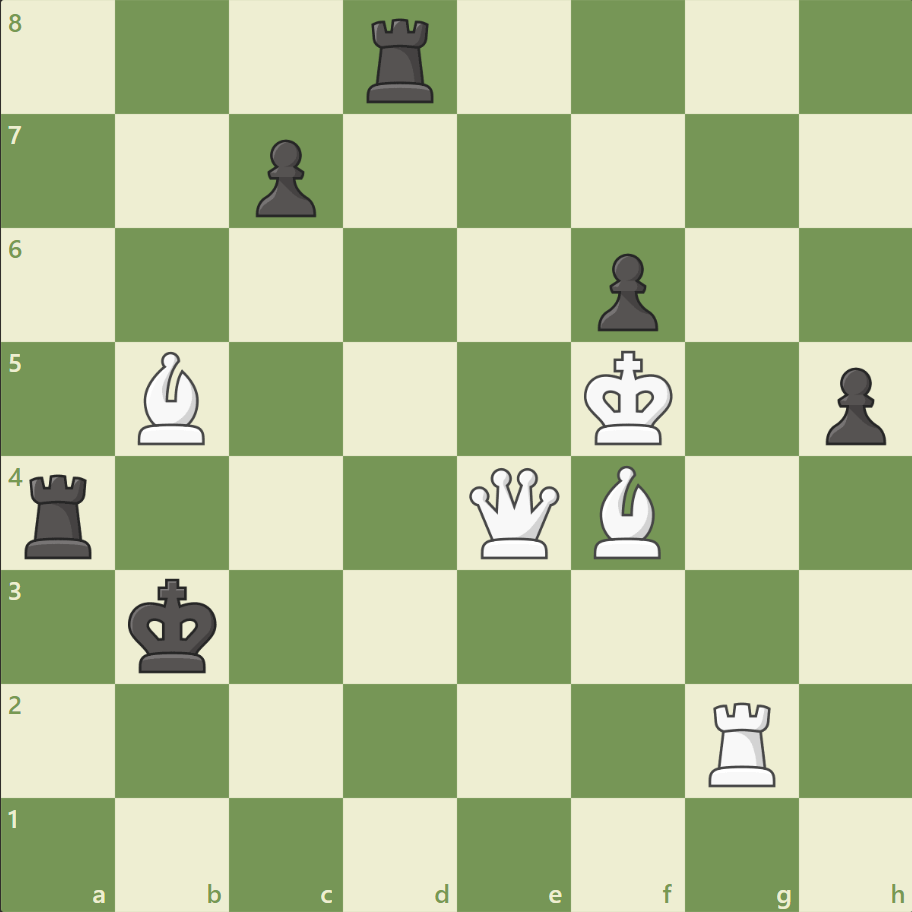B: (585, 460, 669, 563), (131, 347, 215, 449)
K: (579, 344, 679, 452)
Q: (464, 463, 563, 562)
R: (700, 693, 783, 790)
k: (124, 571, 224, 679)
p: (247, 132, 322, 223), (588, 246, 662, 337), (815, 359, 889, 450)
r: (19, 466, 102, 563), (360, 12, 442, 109)
